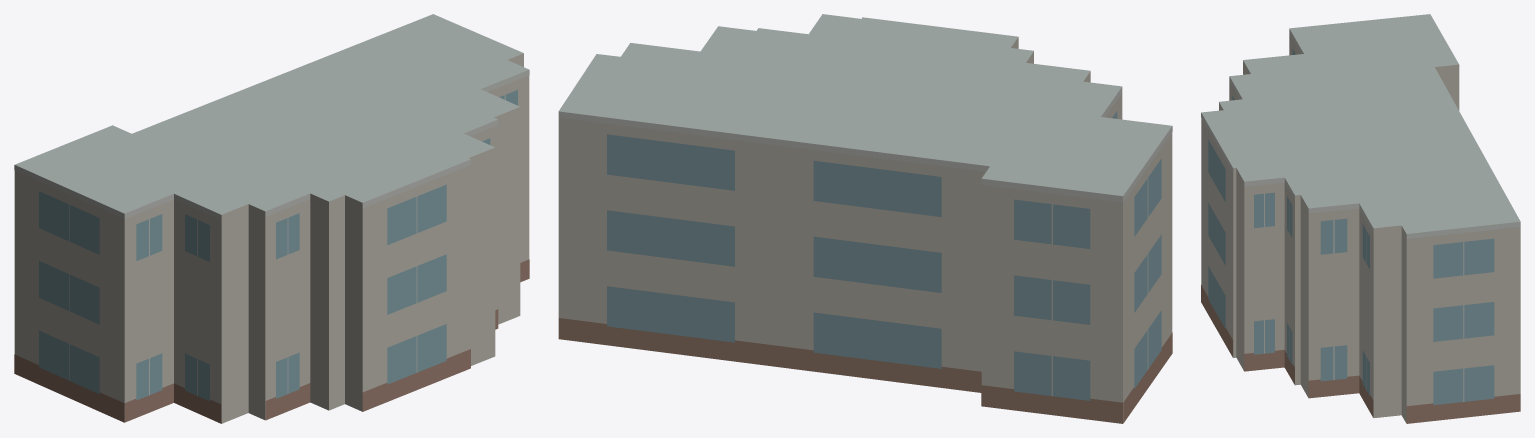
The model's file is survey-upis-32774049.glb.
The picture shows the model from 3 angles, left to right: view 1: azimuth 30°, elevation 25°; view 2: azimuth 150°, elevation 25°; view 3: azimuth 270°, elevation 25°; orthographic projection. The views are drawn at different scales.
Parts seen in each view (by area): view 1: survey-upis-32774049.tmp; view 2: survey-upis-32774049.tmp; view 3: survey-upis-32774049.tmp.
Part boxes in pixels (bbox=[...]): survey-upis-32774049.tmp: bbox=[14, 14, 529, 423]; survey-upis-32774049.tmp: bbox=[558, 14, 1172, 423]; survey-upis-32774049.tmp: bbox=[1201, 14, 1520, 423].
Bounding box in the file's own units: 22.75 × 9.15 × 13.97.
